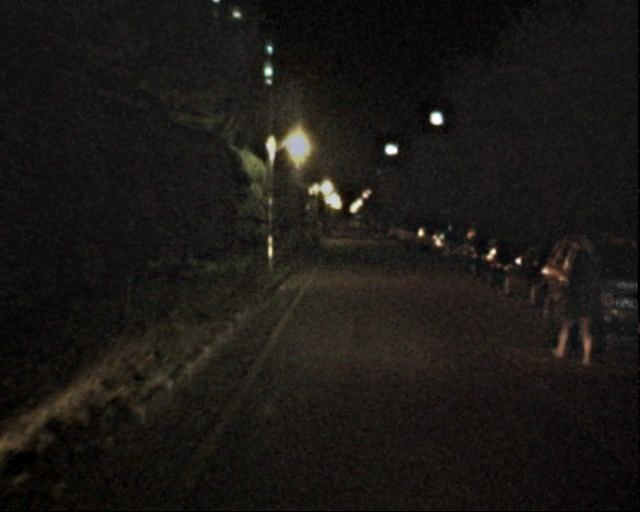person: (550, 256, 596, 367), (562, 231, 607, 341)
